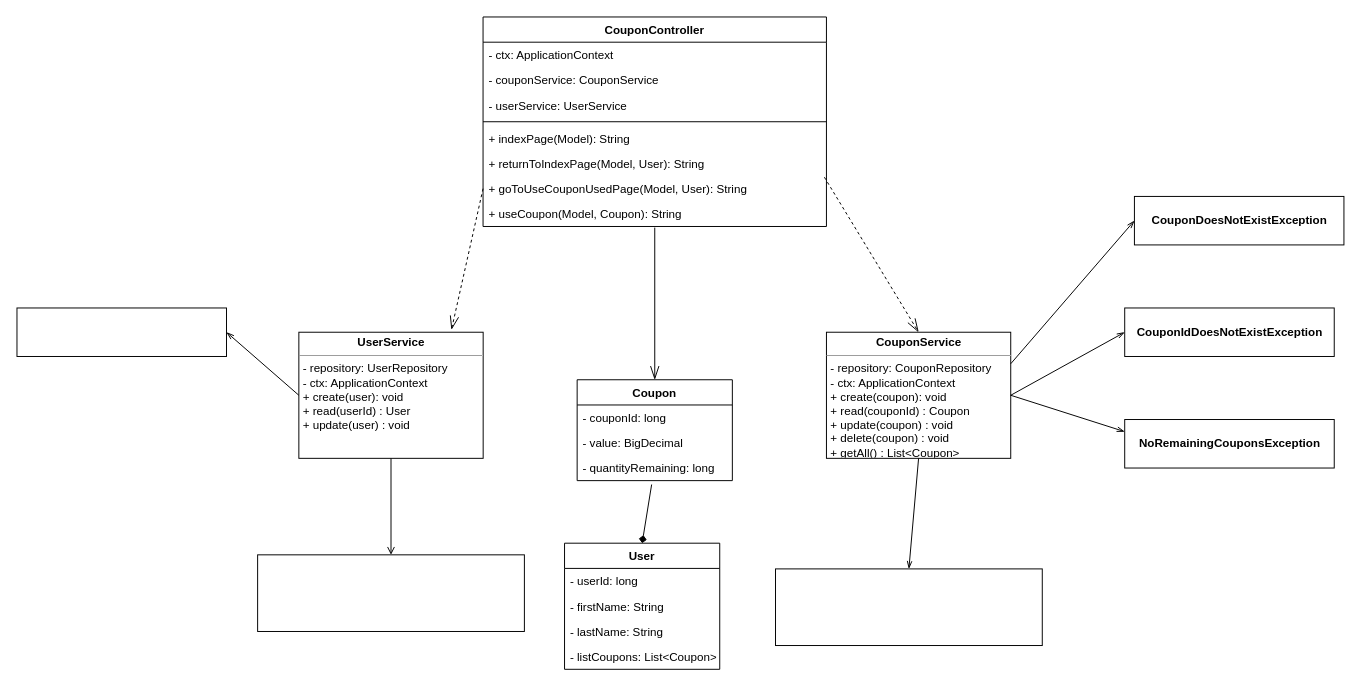
This 1361x689 diagram has some shape labels left out. Each missing label, with the centre of its shape:
"<<interface>> CouponRepository + getByCouponId(couponId) : Optional<Coupon>" belongs at pixel 908 607.
"<<interface>> UserRepository + getByUserId(userId) : Optional<User>" belongs at pixel 390 592.
"UserDoesNotExistException" belongs at pixel 121 331.
